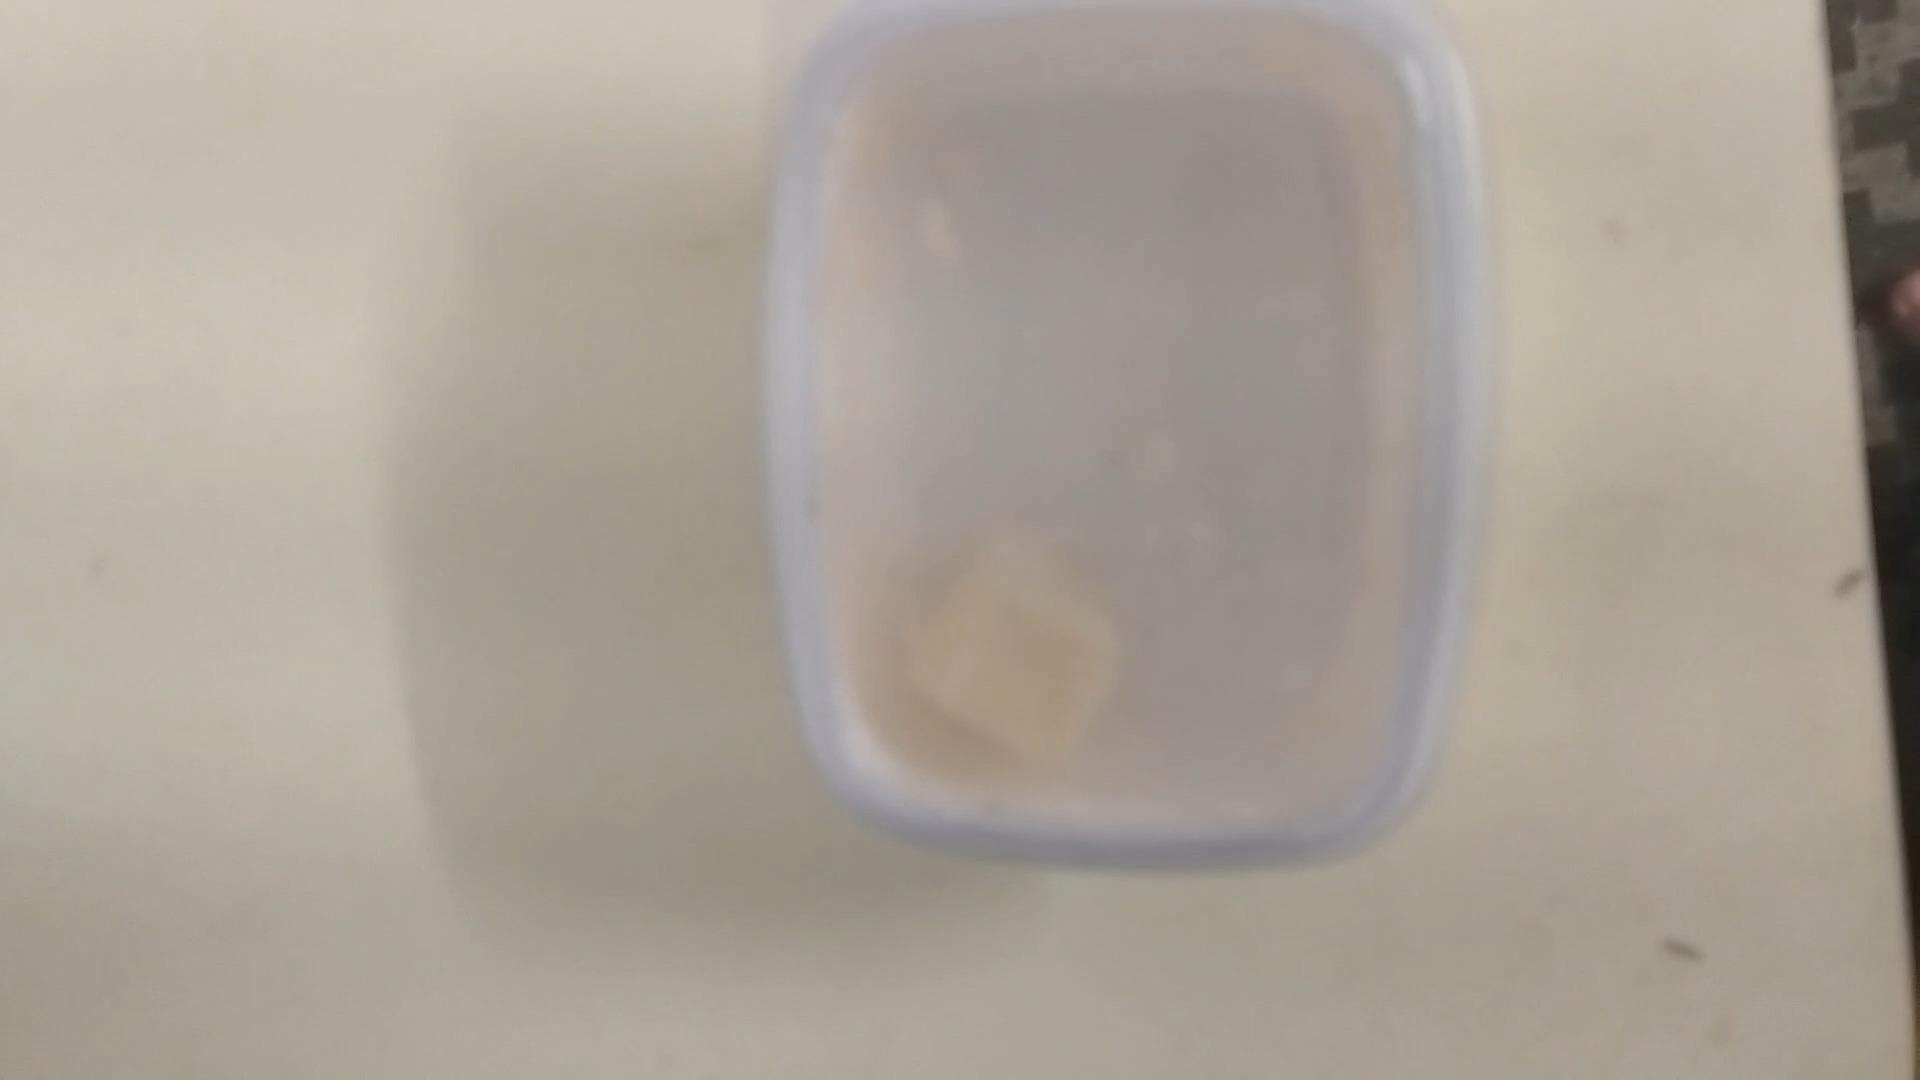butter: (765, 4, 1477, 880)
